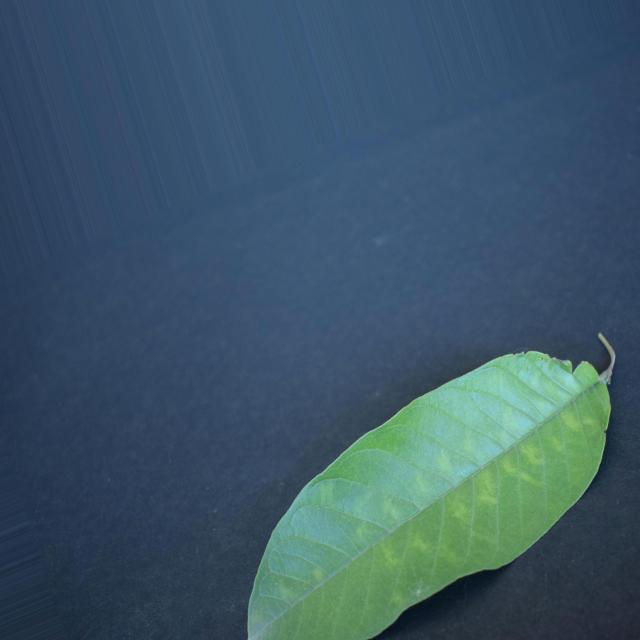Healthy: (248, 336, 615, 639)
